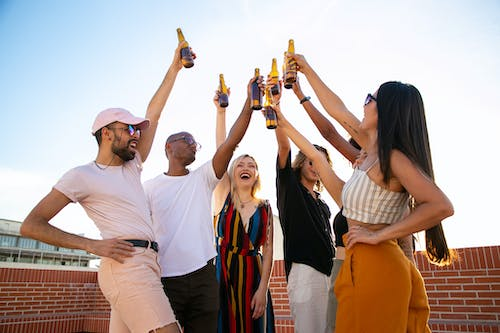alcohol: (174, 26, 195, 69), (283, 37, 298, 91), (262, 86, 278, 130), (266, 55, 281, 99), (249, 67, 263, 111), (216, 71, 230, 108)
